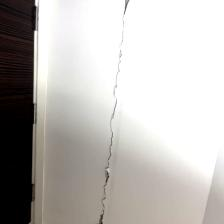Medium: (94, 82, 131, 220)
